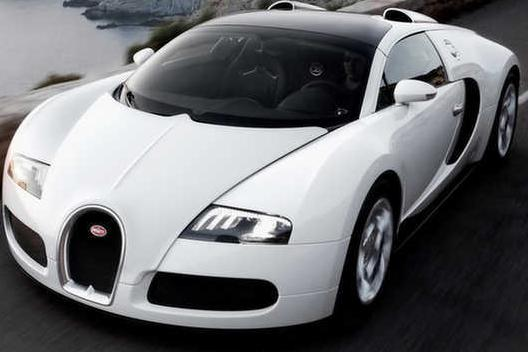front_view: (2, 138, 317, 332)
headlight: (175, 192, 301, 254)
side_glass: (370, 32, 452, 118)
